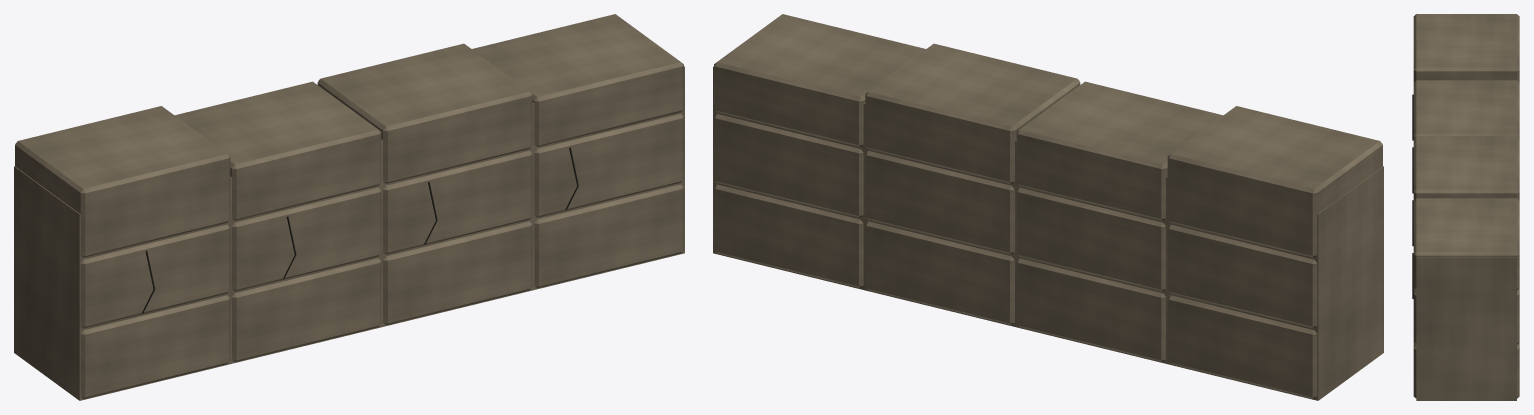
File: arena-low-wall.glb
3 views of the same model, side by side, from view 1: azimuth 30°, elevation 25°; view 2: azimuth 150°, elevation 25°; view 3: azimuth 270°, elevation 25° (orthographic). The views are drawn at different scales.
Parts seen in each view (by area): view 1: arena-low-wall; view 2: arena-low-wall; view 3: arena-low-wall.
Boxes of the visible parts, bbox=[...] form: arena-low-wall: bbox=[14, 14, 684, 400]; arena-low-wall: bbox=[713, 14, 1383, 400]; arena-low-wall: bbox=[1412, 14, 1519, 400].
Size of the model in its own units: 3 by 1 by 0.6.
1 material, 1 textured.
